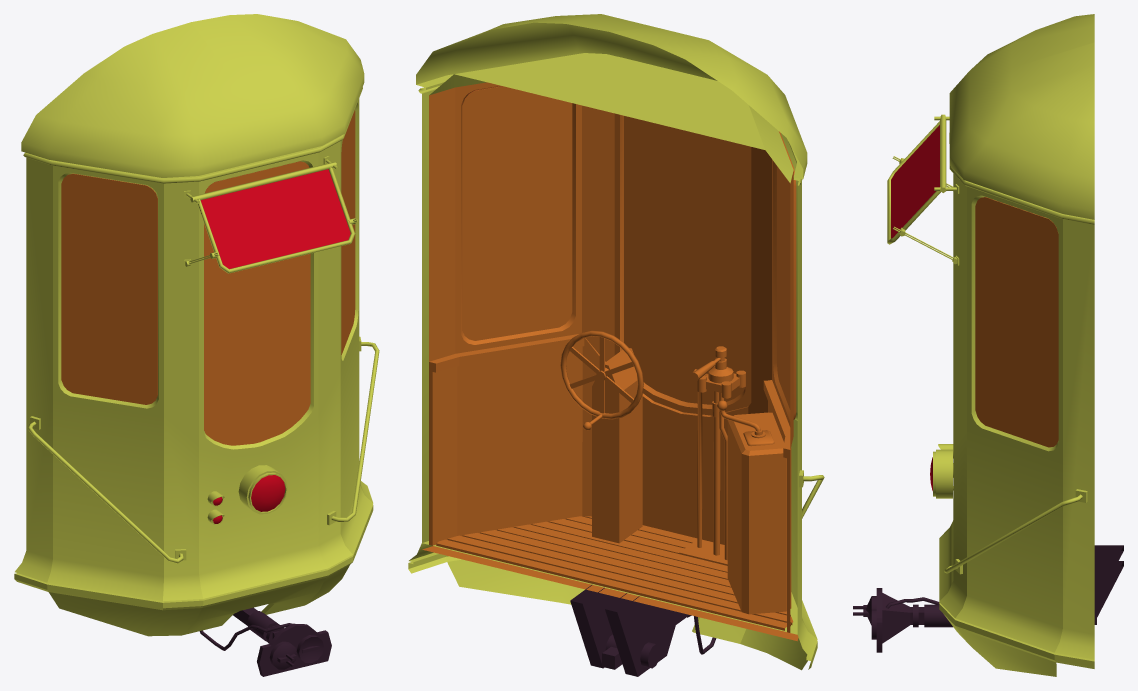
Rendered from vagon end lod0.FBX.
3 views of the same model, side by side, from view 1: azimuth 30°, elevation 25°; view 2: azimuth 150°, elevation 25°; view 3: azimuth 270°, elevation 25° (orthographic). The views are drawn at different scales.
Parts seen in each view (by area): view 1: Box231, Group081; view 2: Box231, control 1; view 3: Box231, Group081.
Boxes of the visible parts, box(x1,y1,x2,y2) form: Box231: box(14, 14, 379, 676); Group081: box(188, 162, 357, 273); Box231: box(408, 14, 824, 676); control 1: box(560, 330, 643, 430); Box231: box(853, 14, 1123, 676); Group081: box(887, 114, 954, 259).
Bounding box in the file's own units: 2.25 × 3.52 × 1.44.
